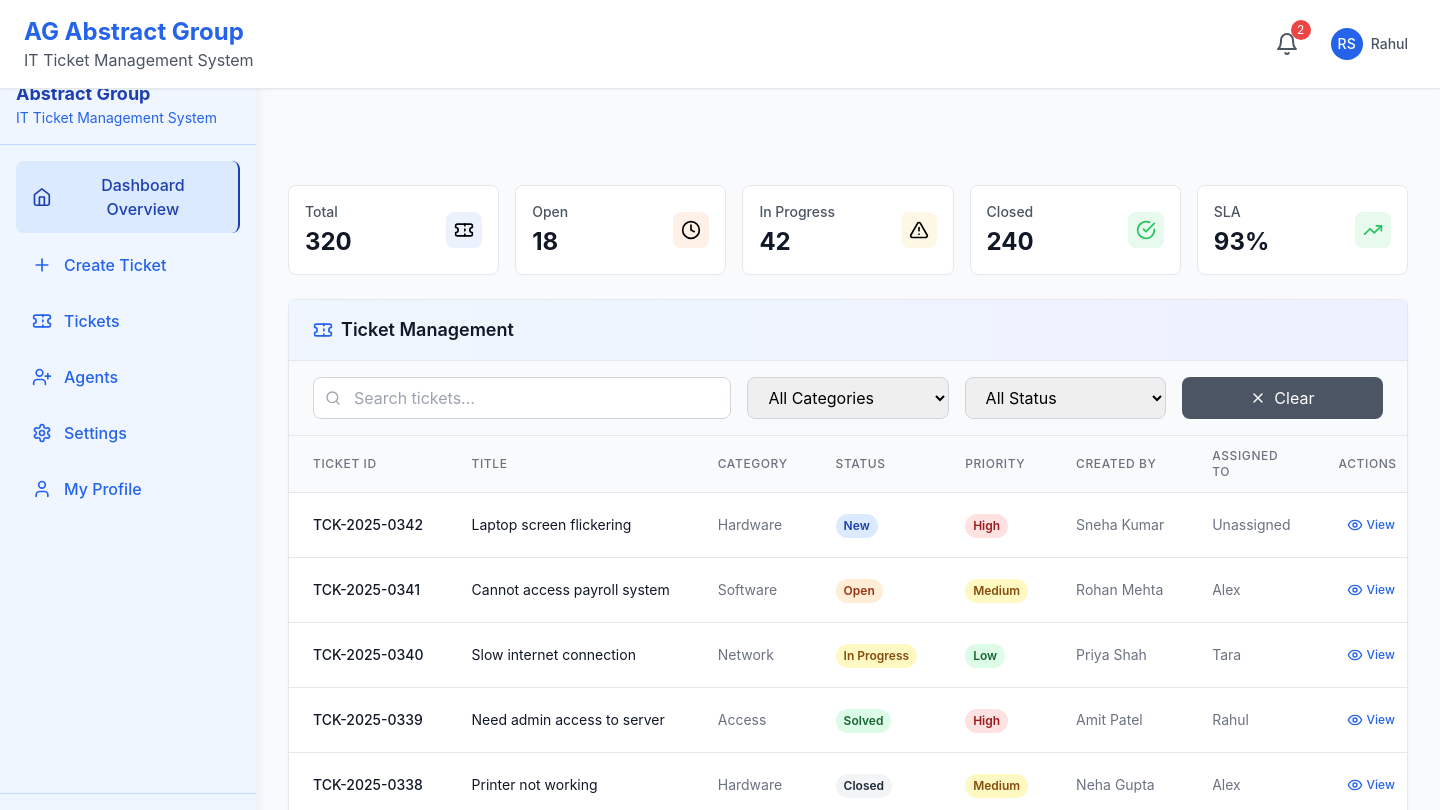
Test: ITPersonDashboard - Agents › deletes an agent when confirm is accepted
The width and height of the screenshot is (1440, 810).
What coordinates should you click on to do the following:
click the button "Agents"
I would click on:
 (128, 377)
Its box is x1=16 y1=353 x2=240 y2=401.
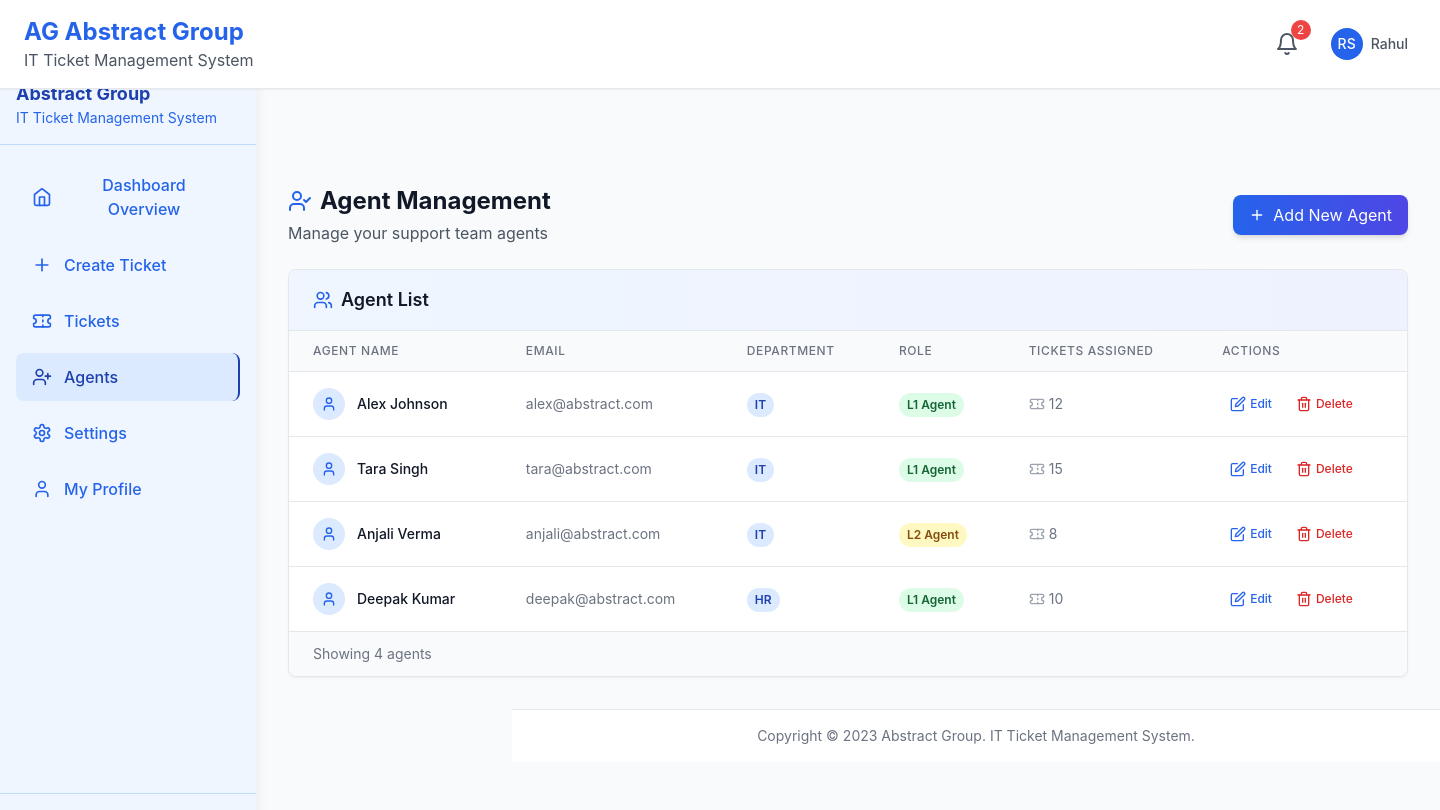
expect the text "Alex Johnson" is shown: met, box x1=357 y1=394 x2=448 y2=414
What coordinates should you click on to do the following:
click the button titled "Delete Agent" in the row of "Alex Johnson"
I would click on:
 (1324, 404)
Its box is x1=1288 y1=388 x2=1361 y2=420.
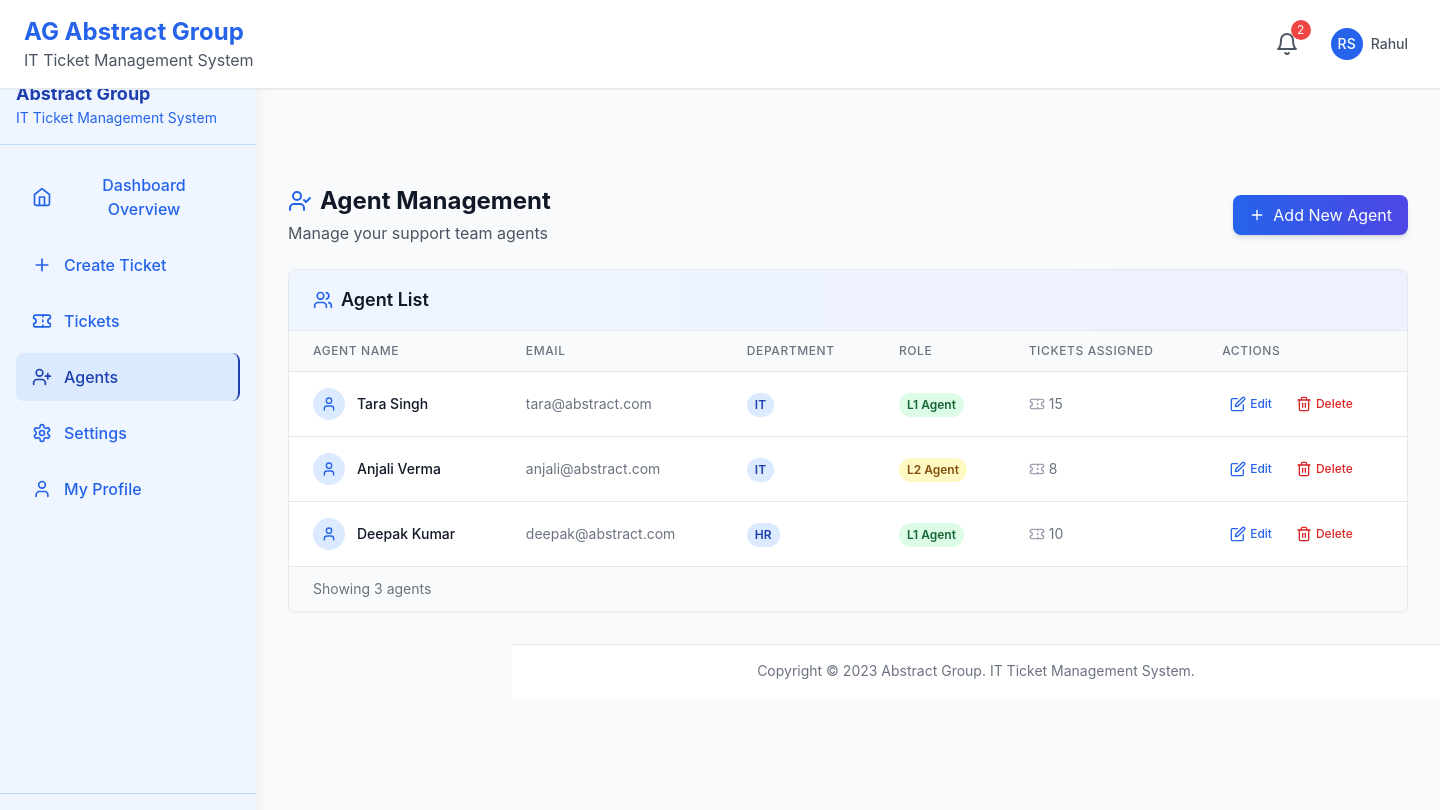
expect the text "Alex Johnson" is gone: met
